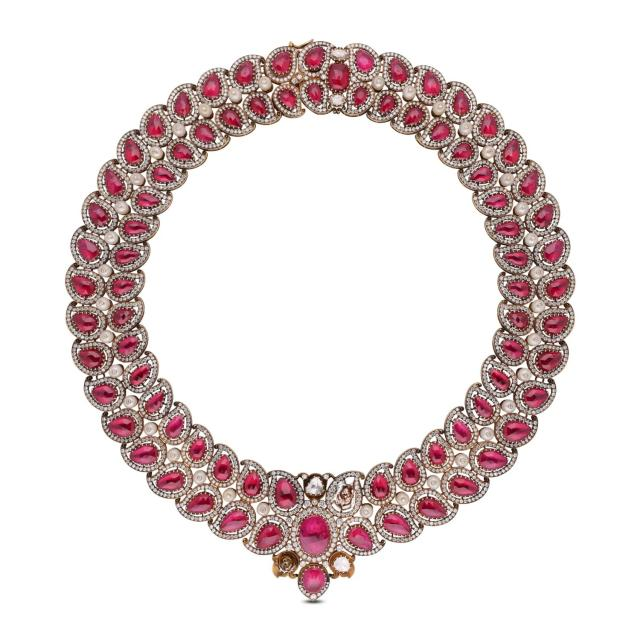missing gem: (332, 480, 354, 511), (279, 555, 296, 572)
